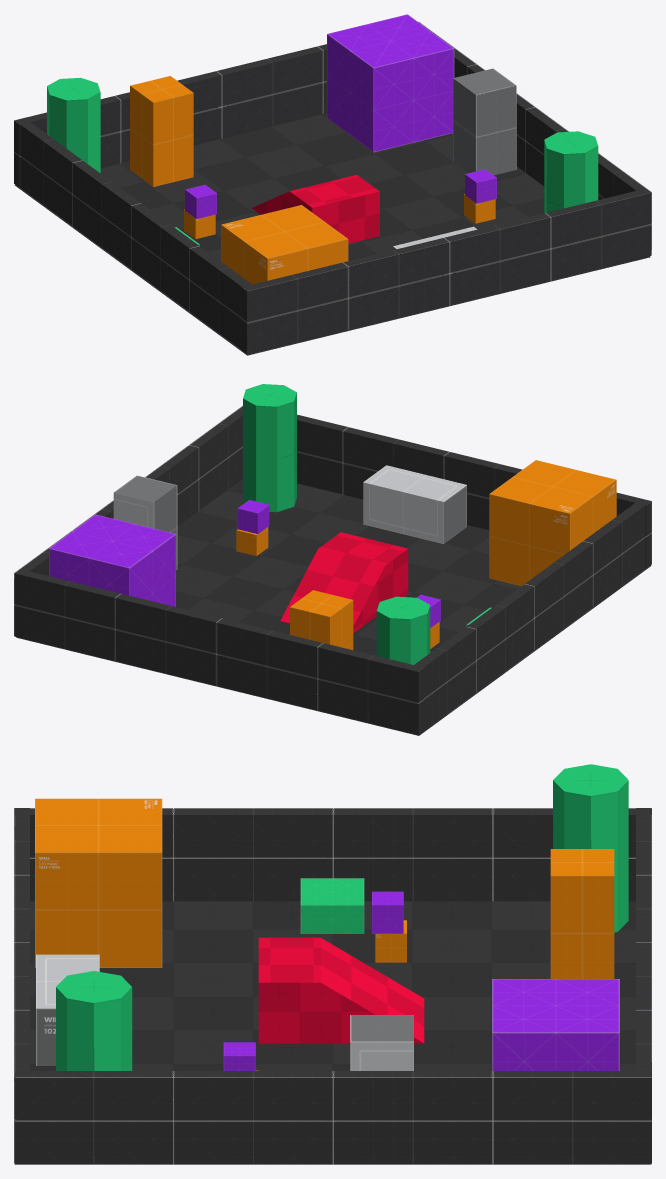
Rendered from Prototype_Level2.glb.
The picture shows the model from 3 angles, top to bottom: view 1: azimuth 30°, elevation 25°; view 2: azimuth 150°, elevation 25°; view 3: azimuth 270°, elevation 25°; orthographic projection. The views are drawn at different scales.
Visible parts, largest first — view 1: Walls, Props, Floor, Ramp, Tower; view 2: Walls, Props, Floor, Ramp, Tower; view 3: Walls, Props, Floor, Ramp, Tower.
Part boxes in pixels (x1,y1,x2,y2): Walls: (14, 22, 651, 354); Props: (47, 14, 516, 284); Floor: (14, 113, 650, 355); Ramp: (252, 175, 379, 243); Tower: (544, 131, 598, 213); Walls: (14, 405, 651, 734); Props: (49, 460, 616, 664); Floor: (16, 479, 651, 735); Ramp: (280, 532, 408, 633); Tower: (243, 384, 296, 512); Walls: (14, 808, 651, 1164); Props: (35, 764, 628, 1070); Floor: (14, 901, 650, 1164); Ramp: (258, 937, 424, 1043); Tower: (56, 971, 132, 1070).
Size of the model in its own units: 40.16 by 10.02 by 40.11.
Materials: 8 (8 with a texture image).
